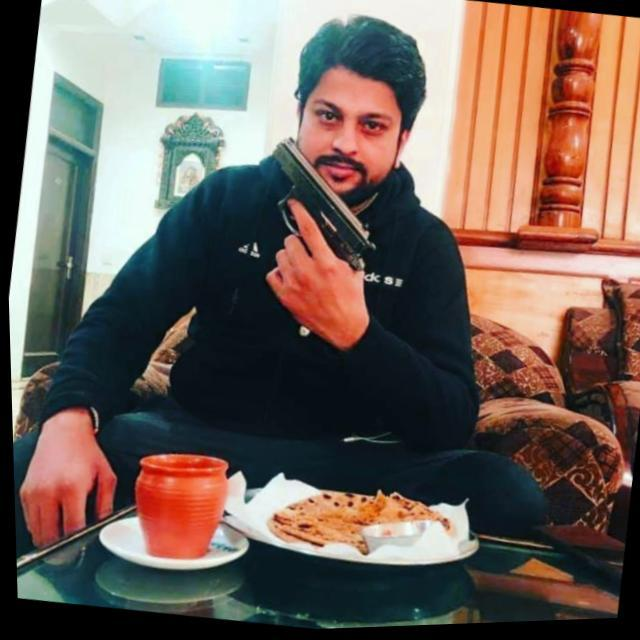weapon: (248, 132, 395, 308)
